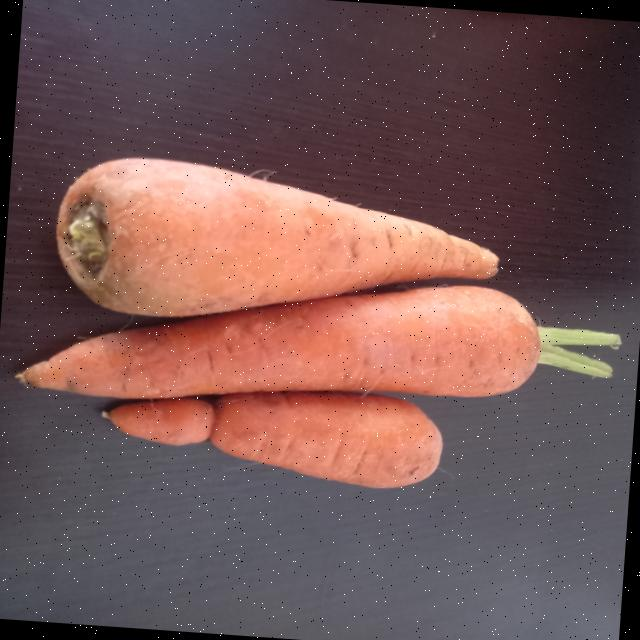carrot: (55, 157, 496, 316), (19, 285, 539, 399), (108, 391, 440, 488)
